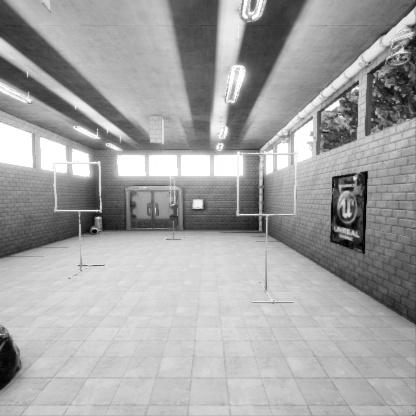gate: (239, 202, 303, 266), (58, 206, 107, 254), (170, 211, 175, 240)
